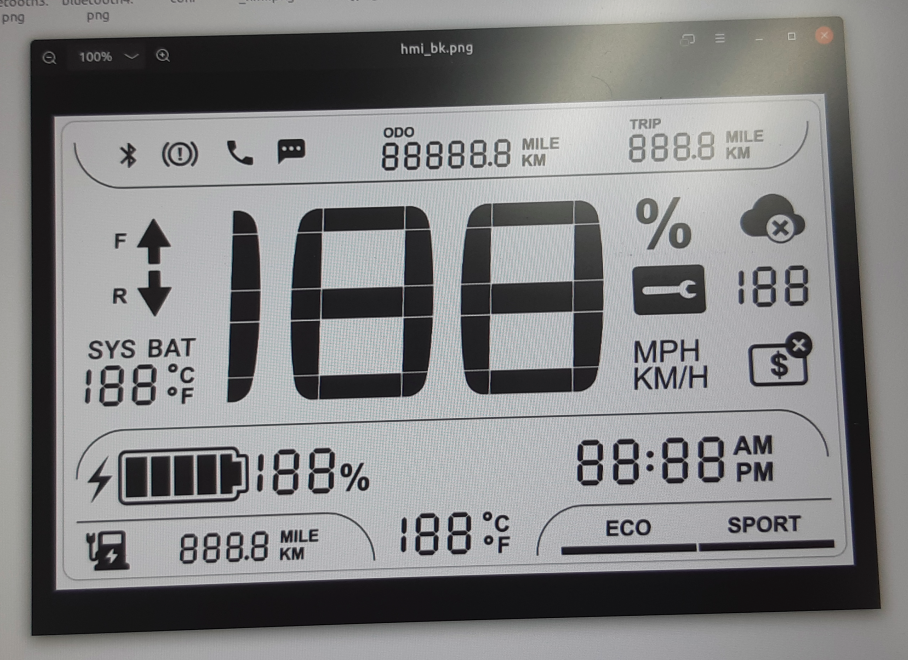bluetooth_on: (116, 140, 140, 171)
braking_on: (159, 138, 201, 169)
calling_on: (223, 136, 257, 170)
connection_lost: (738, 192, 808, 246)
error_code: (629, 262, 709, 318)
low_battery: (82, 528, 133, 573)
sms_on: (274, 135, 308, 168)
vin_id: (745, 329, 814, 390)
